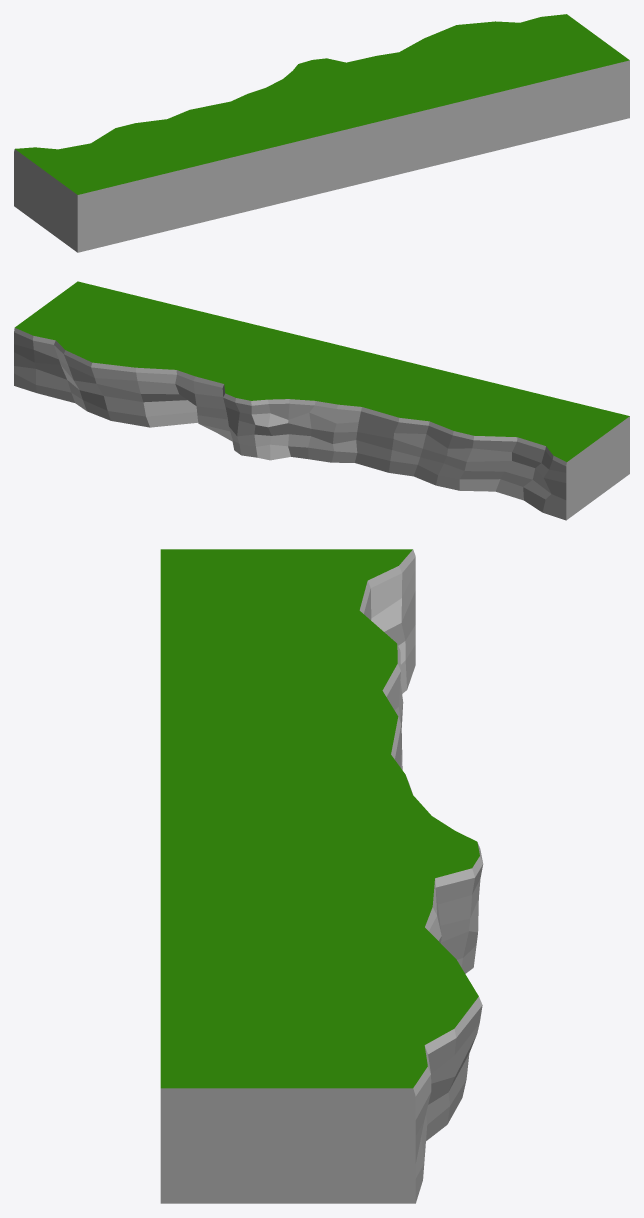
File: Cliff_5.fbx
3 views of the same model, one above another, from view 1: azimuth 30°, elevation 25°; view 2: azimuth 150°, elevation 25°; view 3: azimuth 270°, elevation 25° (orthographic). The views are drawn at different scales.
Parts seen in each view (by area): view 1: Plane; view 2: Plane; view 3: Plane.
Boxes of the visible parts, x1,y1,x2,y2 form: Plane: [14, 14, 629, 252]; Plane: [14, 281, 629, 520]; Plane: [160, 549, 483, 1203].
Bounding box in the file's own units: 100 × 10 × 25.29.
